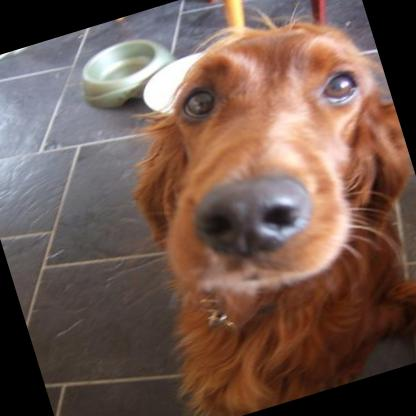Irish_setter: (62, 0, 416, 416)
